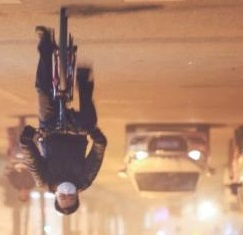person: (19, 26, 109, 216), (8, 167, 37, 204)
